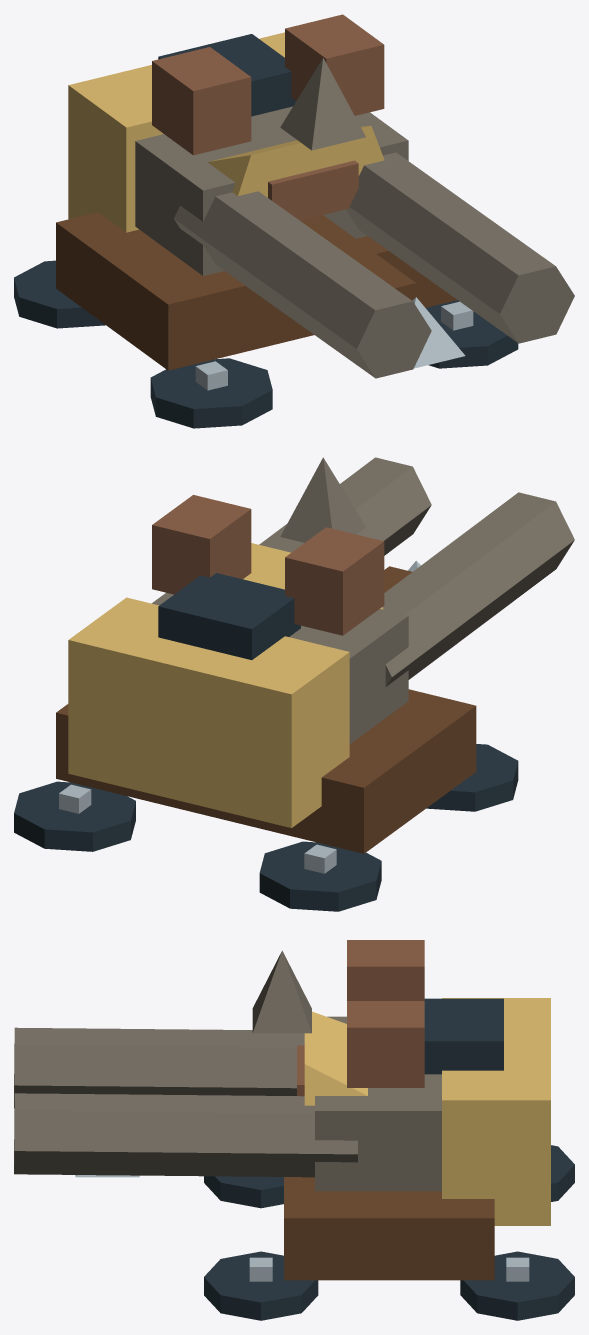
The model's file is heavy-war-machine.obj.
3 renders of one model, top to bottom at view 1: azimuth 30°, elevation 25°; view 2: azimuth 150°, elevation 25°; view 3: azimuth 270°, elevation 25°, orthographic. The views are drawn at different scales.
Parts seen in each view (by area): view 1: siege; view 2: siege; view 3: siege.
Part boxes in pixels (x1,y1,x2,y2): siege: (14,14,574,428); siege: (14,457,574,911); siege: (14,940,574,1320).
Bounding box in the file's own units: 2.1 × 1.72 × 3.04.
